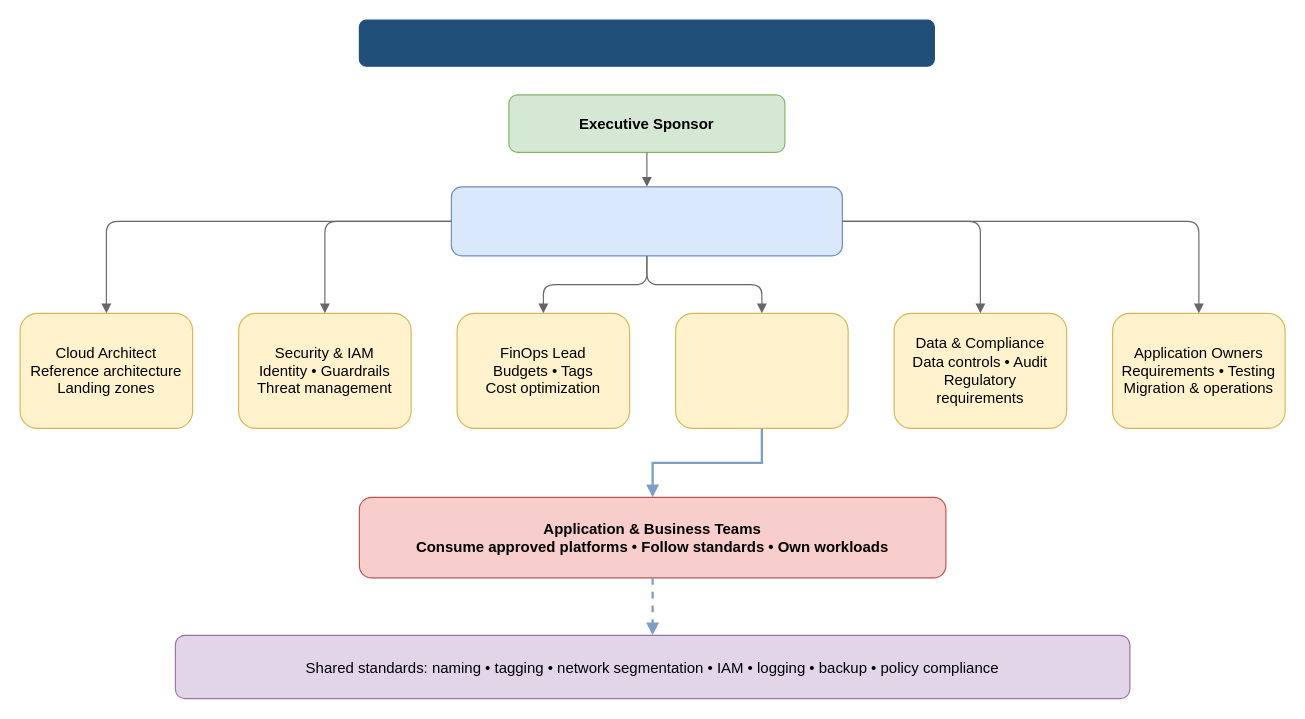
This 1305x719 diagram has some shape labels left out. The centre of each missing label's shape, as x and y in pixels:
"CCoE Lead Strategy • Standards • Governance" goes at [646,221].
"CLOUD CENTER OF EXCELLENCE (CCoE)" goes at [646,42].
"Platform / DevOps CI/CD • Networking Logging • Automation" goes at [761,370].
